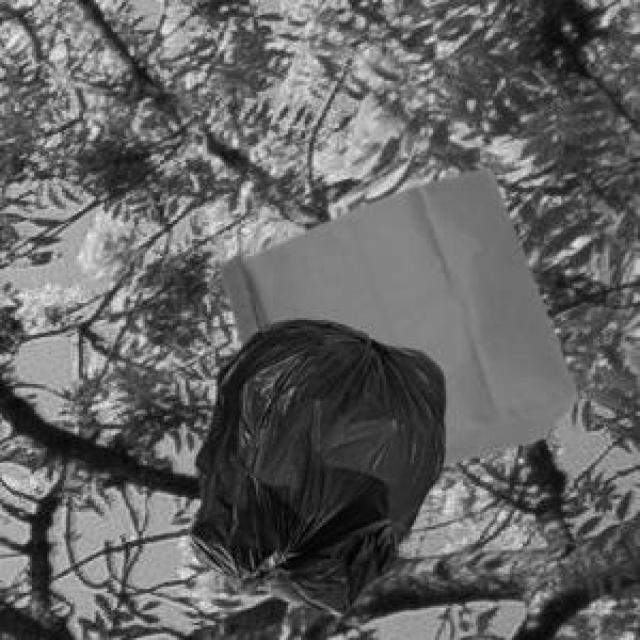miscellaneous trash: (184, 316, 442, 610)
paper: (216, 164, 574, 461)
